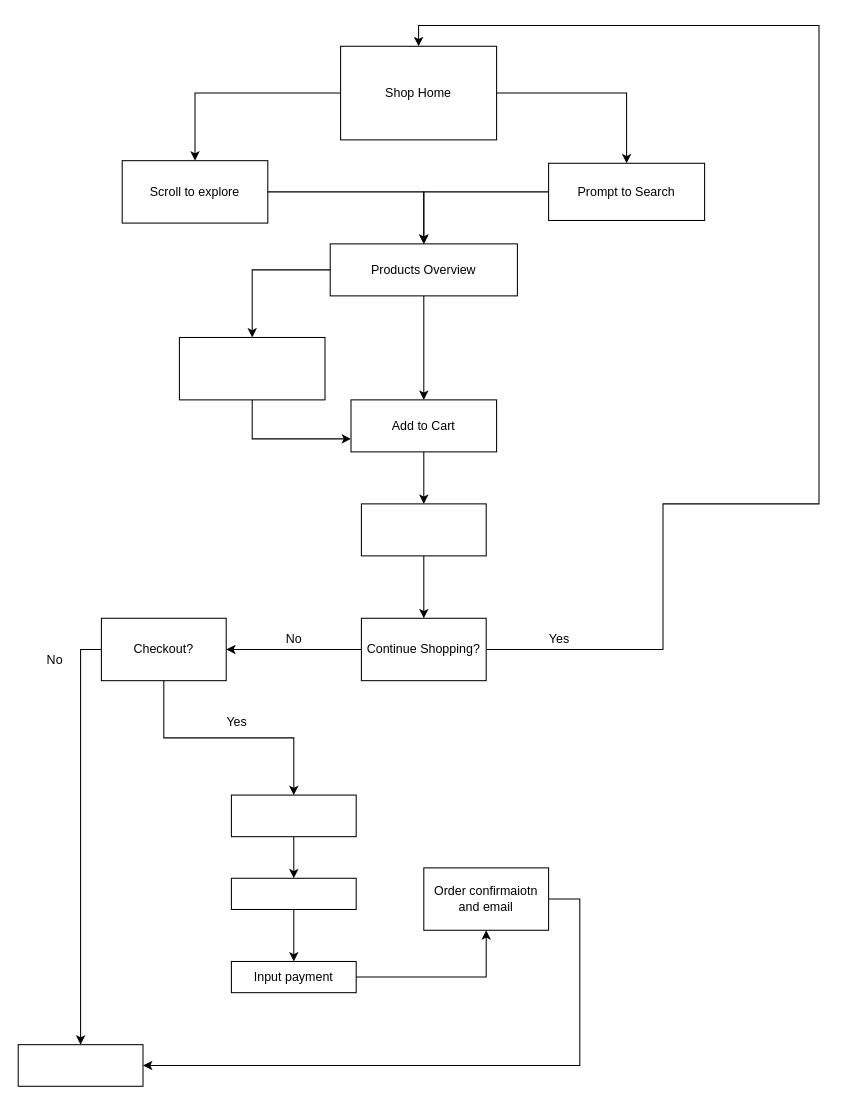
Some shapes in this 846 by 1104 pixel diagram are drawn without their labels. The centre of each missing label's shape, as x and y in pixels:
"Cart Confirmation" belongs at (423,529).
"Leave Site" belongs at (80,1065).
"View Cart" belongs at (293,815).
"View Payment" belongs at (293,893).
"View Product Webpage" belongs at (251,368).
